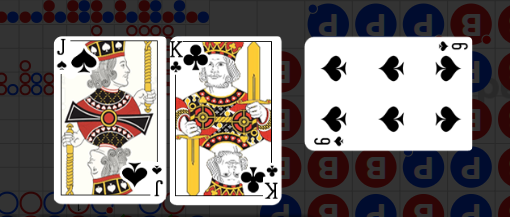6S: (436, 40, 469, 53), (313, 135, 346, 148)
JS: (55, 38, 99, 85), (122, 159, 166, 205)
